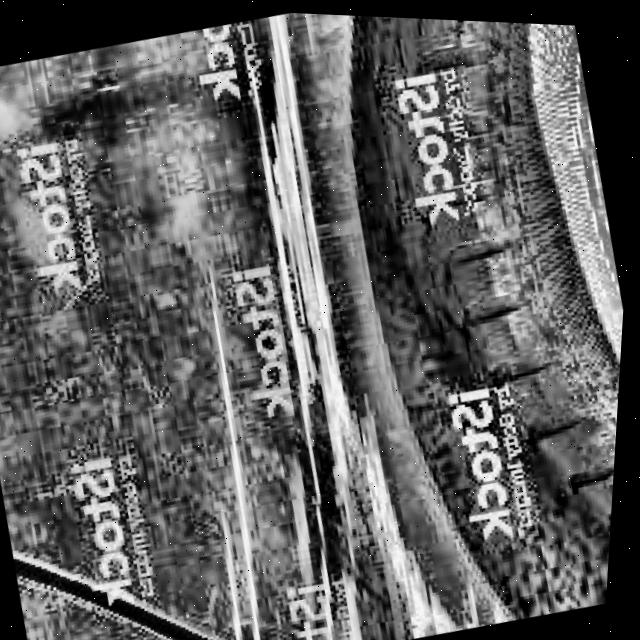door_scratch: (192, 19, 464, 640), (123, 263, 308, 640)
